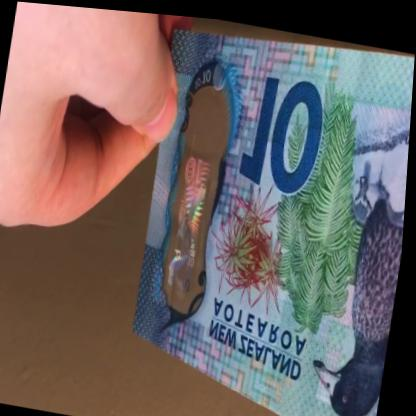10F: (167, 104, 225, 295)
